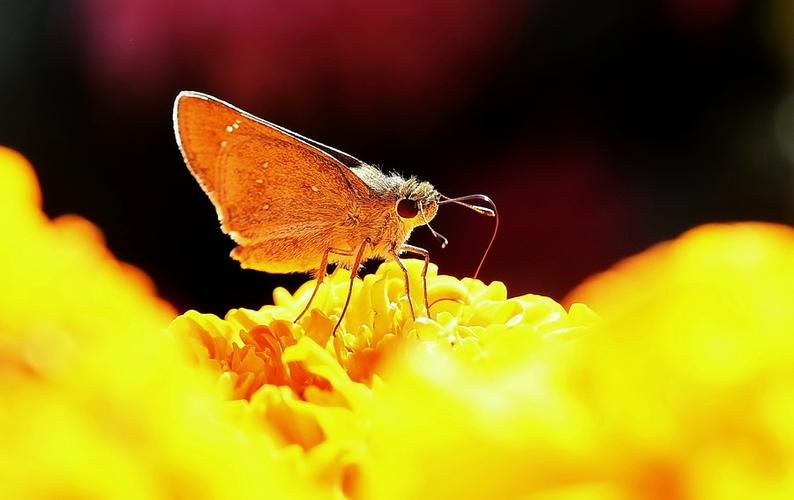Hesperiidae: (168, 85, 509, 331)
